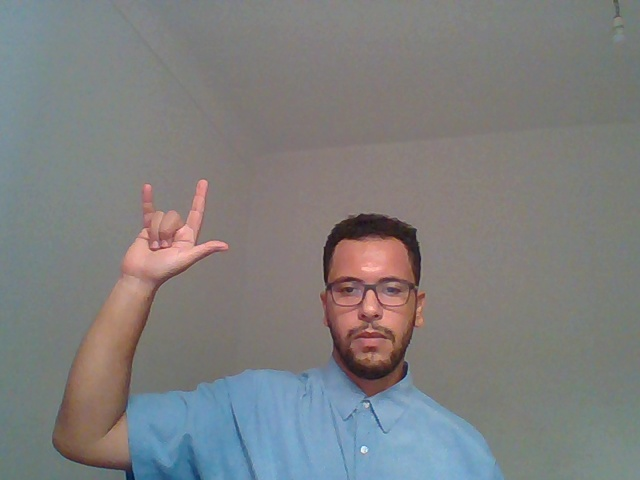iloveyou: (49, 139, 237, 390)
